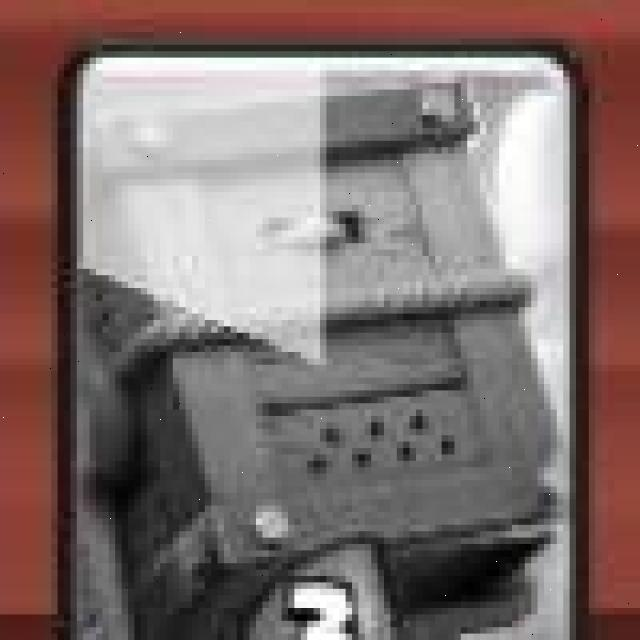Royal_Delivery: (56, 49, 588, 640)
